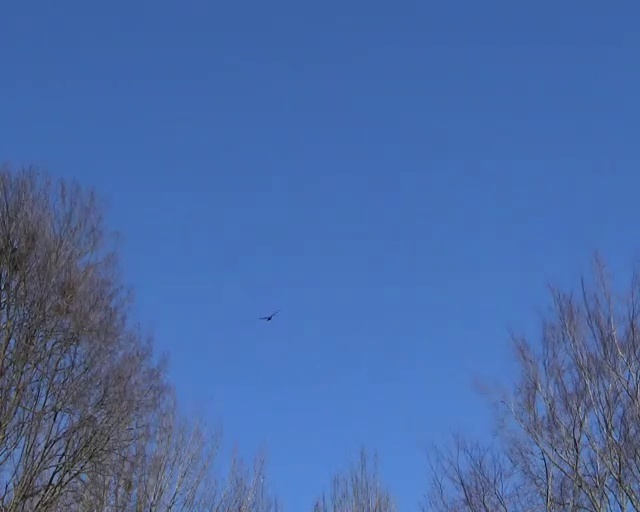BIRD: (260, 309, 280, 321)
